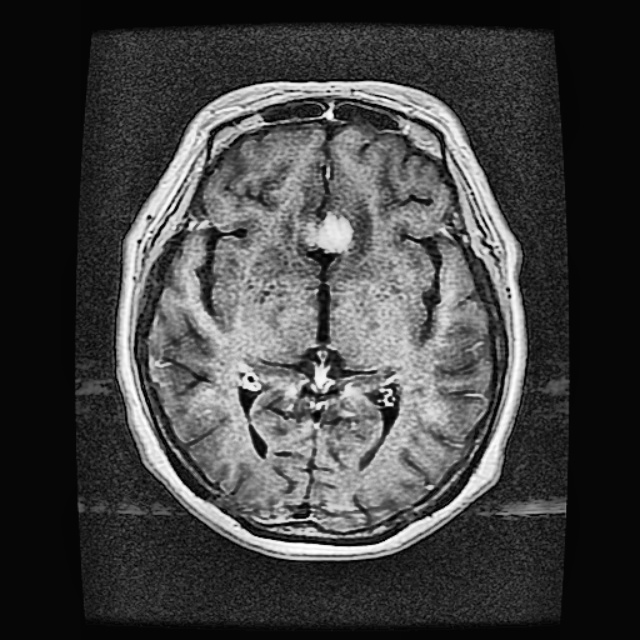Pituitary: (307, 212, 357, 252)
